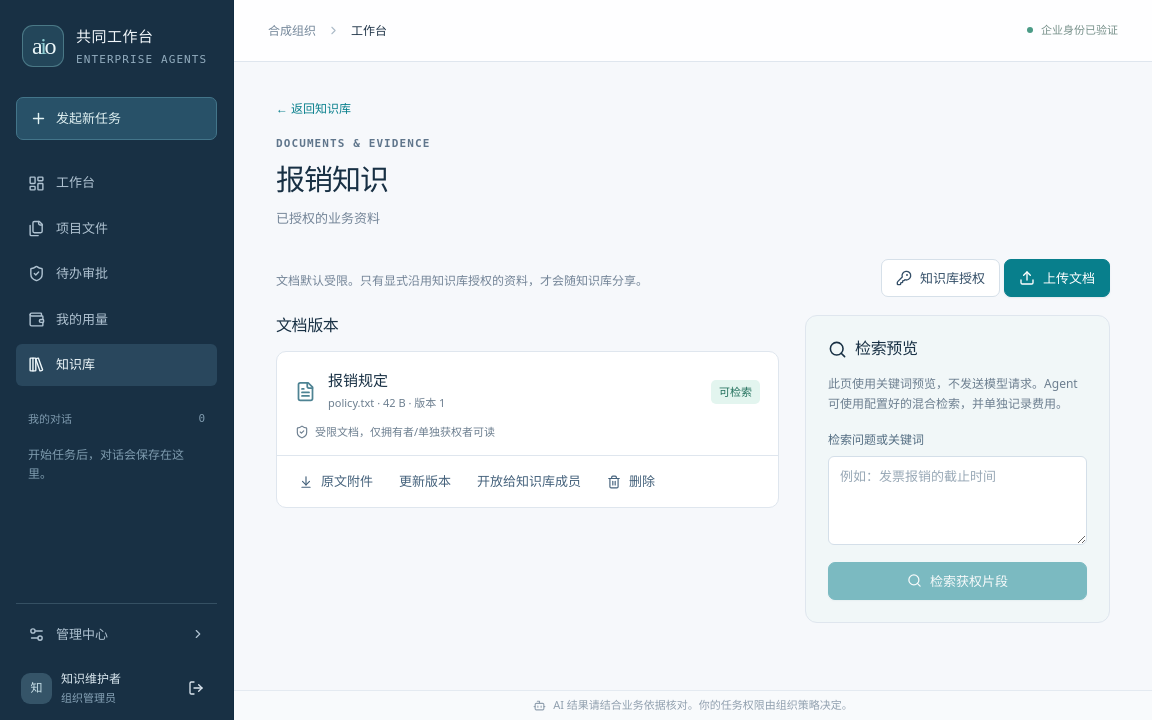
Scenario: search previews and citations remain inert text and refer to a fixed version
This screenshot has width=1152, height=720.
Type "餐费标准" into the text box labelled "检索问题或关键词".
click(958, 500); type("餐费标准")  # box [828, 456, 1087, 544]
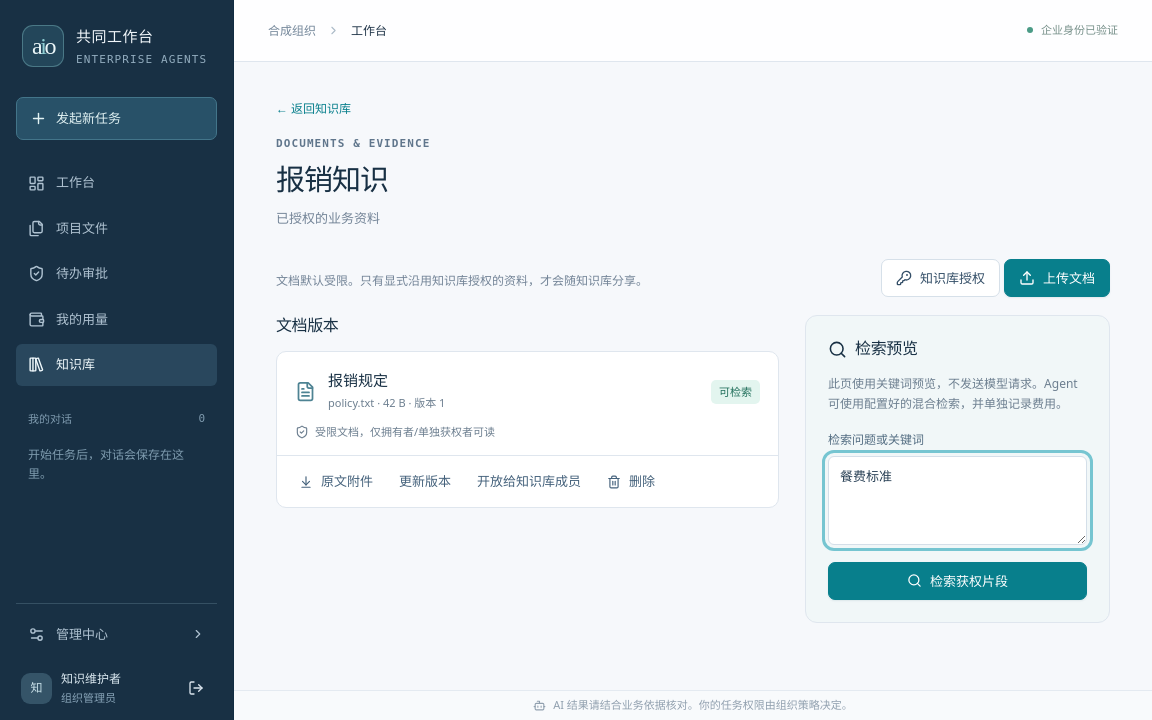
Click the button "检索获权片段".
click(958, 581)  # box [828, 562, 1087, 600]
(page scrolled)
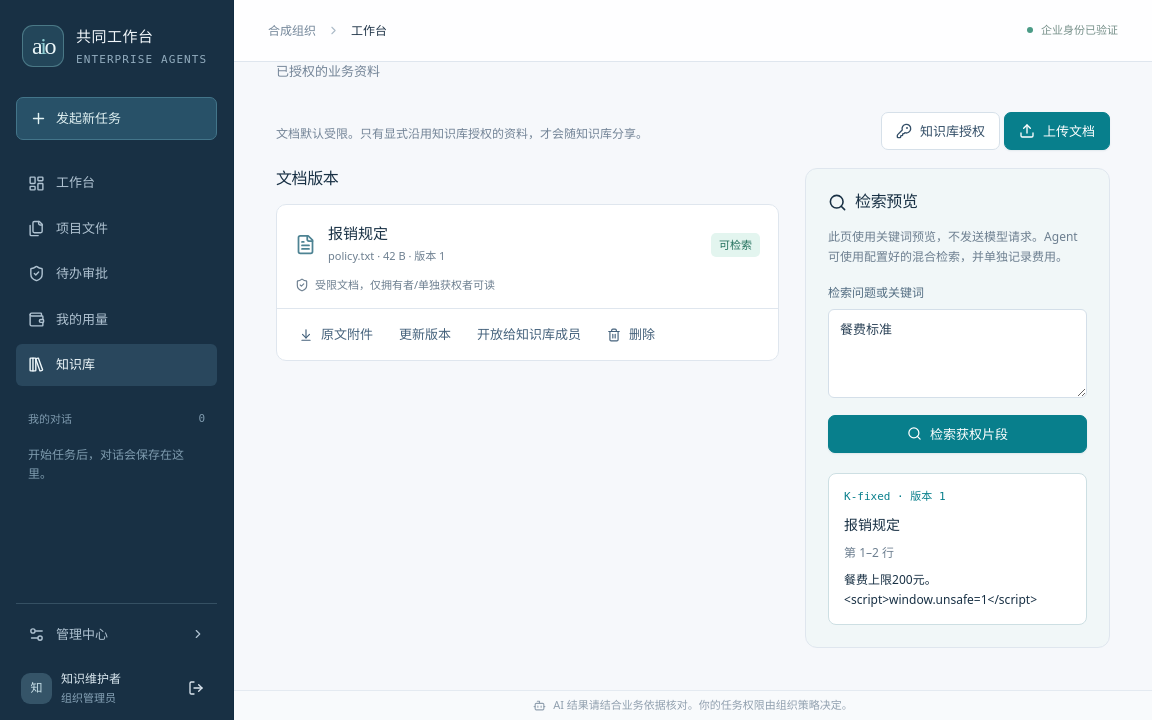
Click the button "K-fixed".
click(958, 549)  # box [828, 473, 1087, 625]
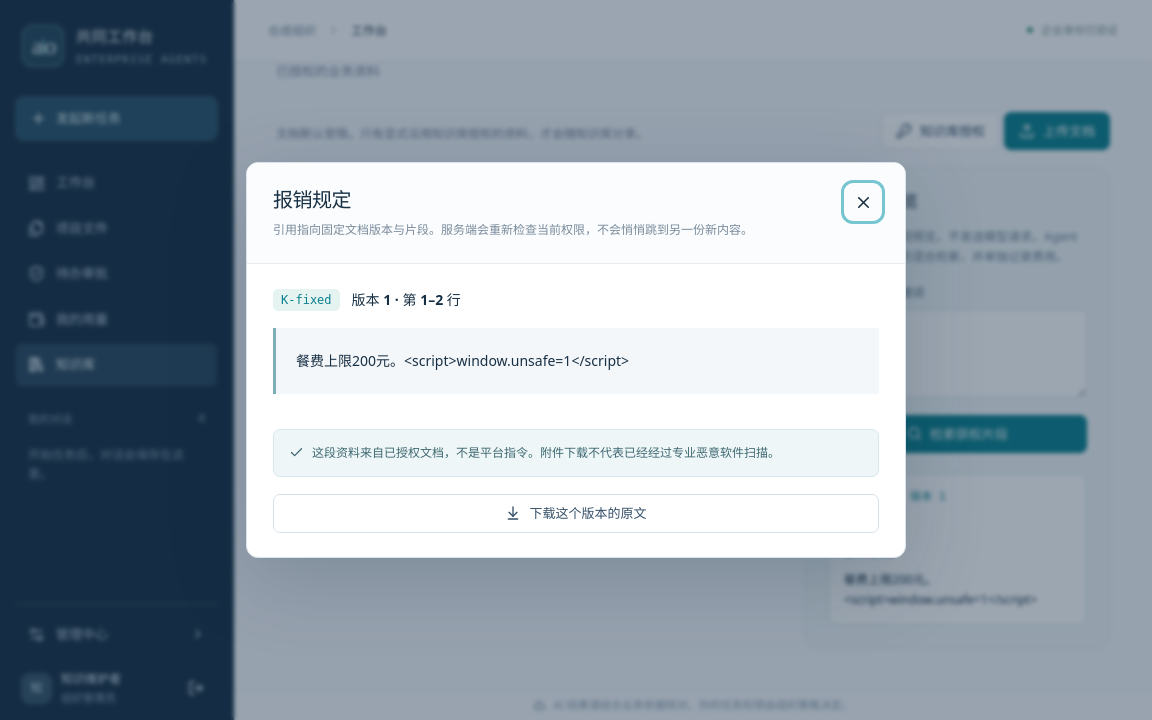
Expected: the dialog "报销规定" is shown, [246, 162, 906, 558]
Expected: the text "版本 1 · 第 1–2 行" is shown, [352, 288, 461, 311]
